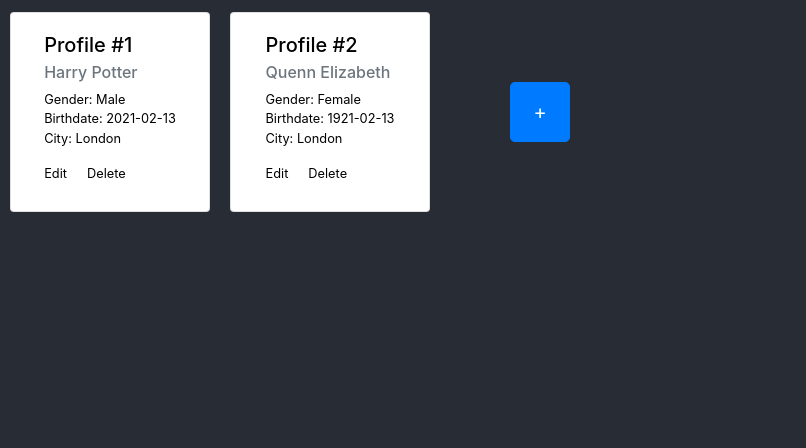
Test case: Profiles list tests › Click on profile edit should replace one card with form
Click the link with test id "profile-card__edit-btn" below "2021-02-13".
click(56, 173)  # box [44, 166, 67, 181]
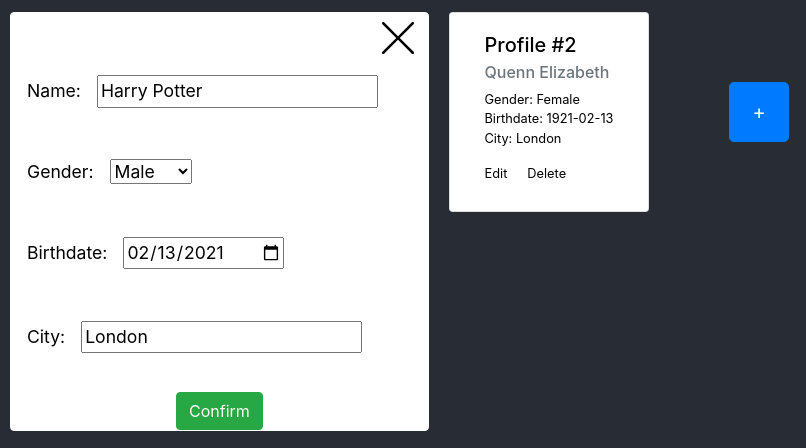
Expected: the form with test id "profile-card-edit" is shown, [10, 12, 429, 431]
